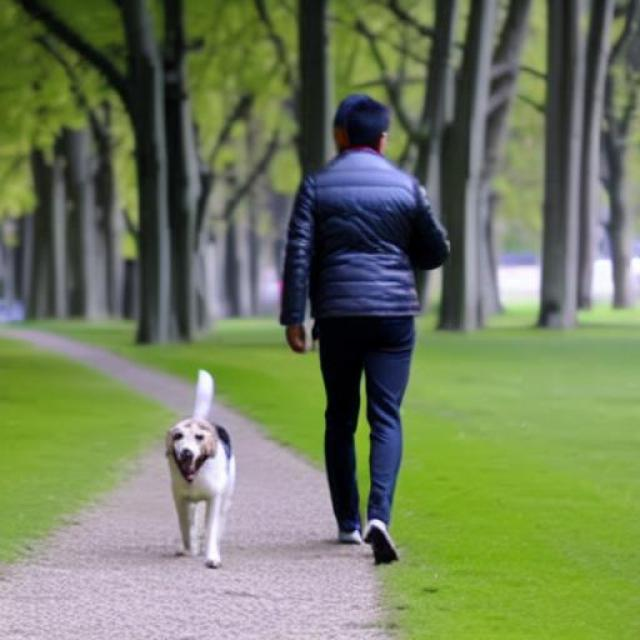Unleashed_Dog: (164, 316, 414, 569)
